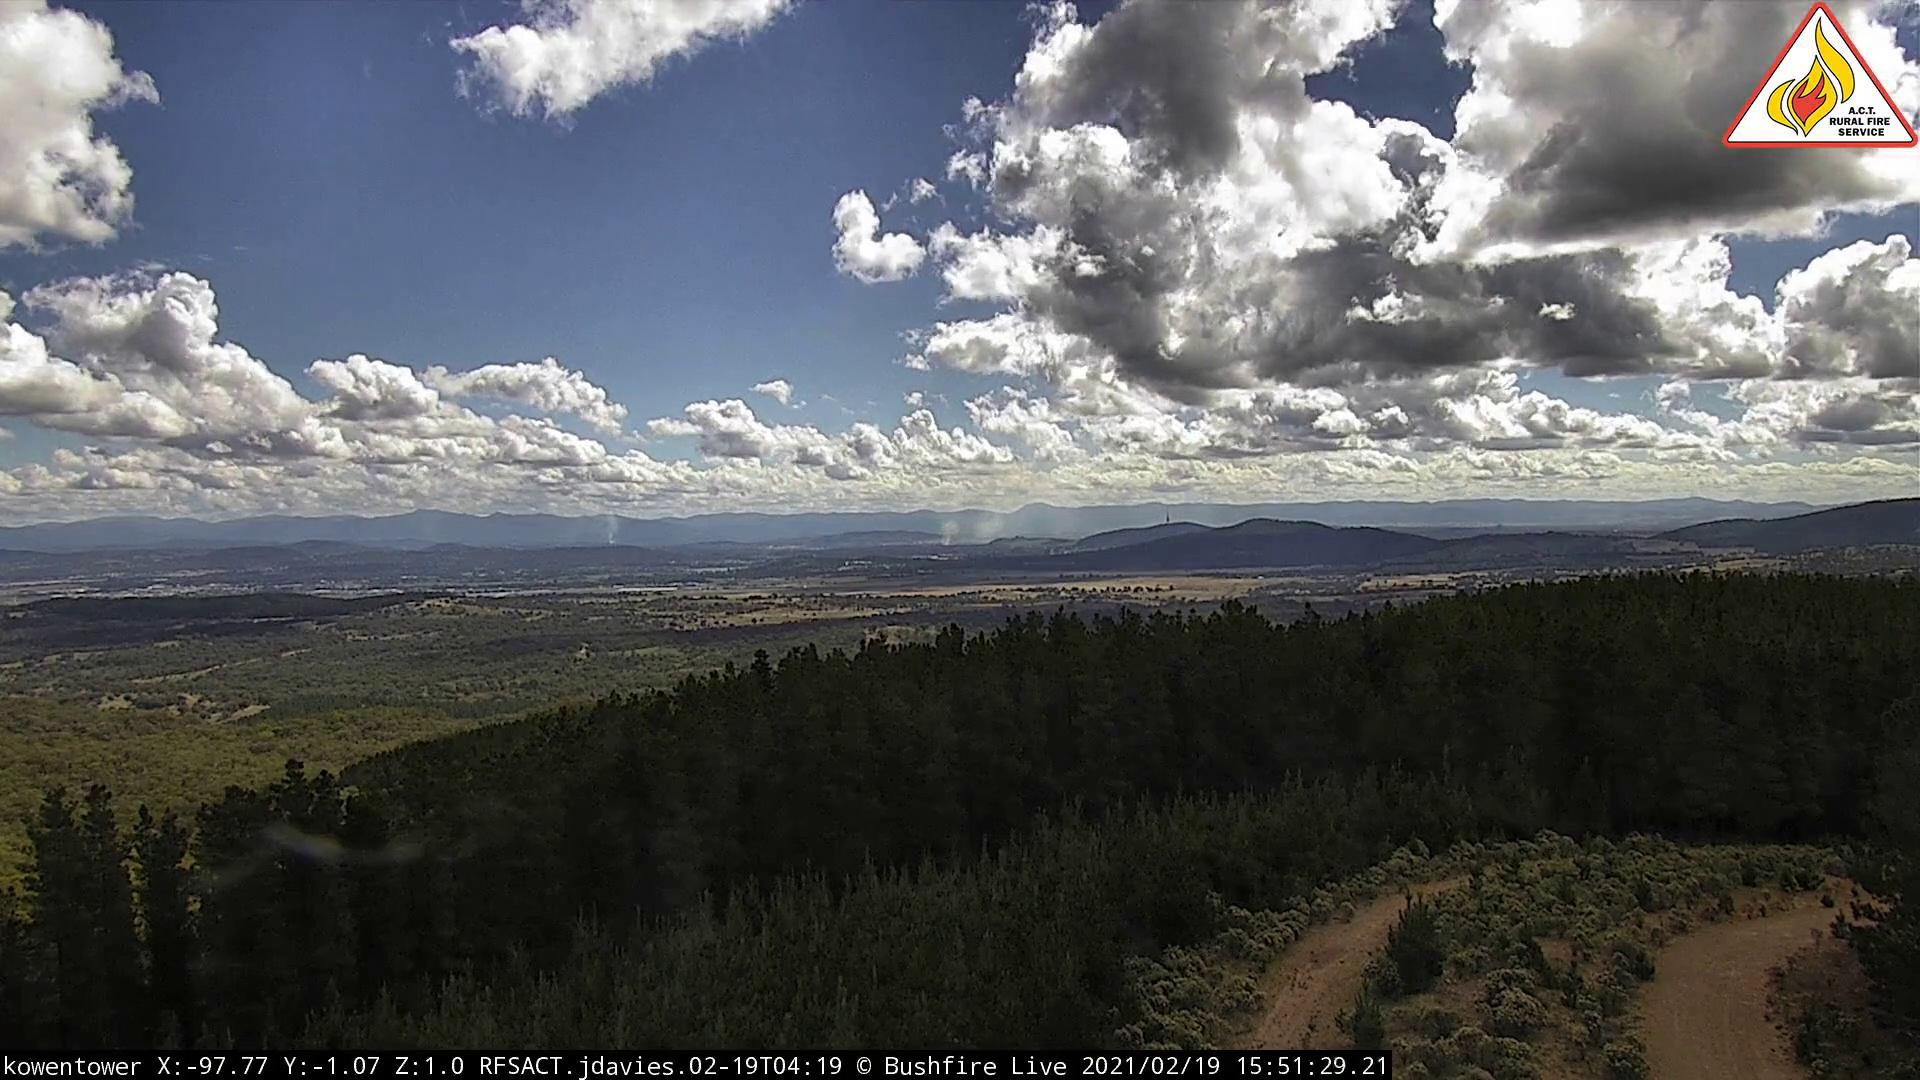instance_salient_object: (938, 502, 1031, 551), (605, 527, 622, 554)
